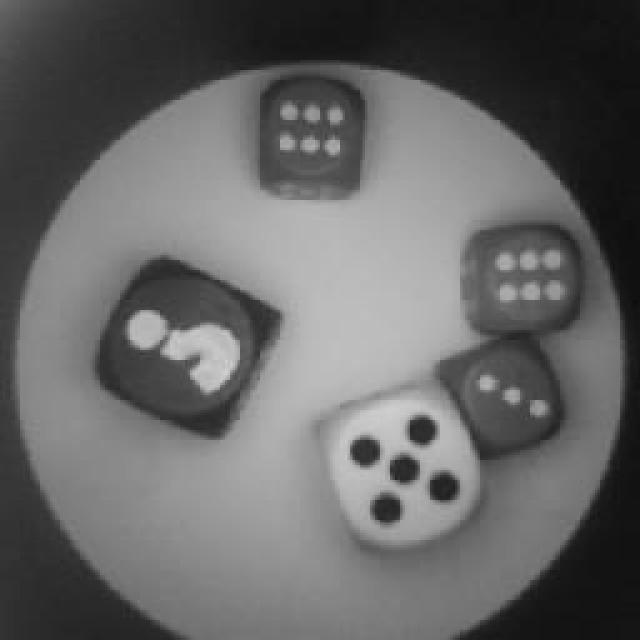dice_3: (445, 322, 573, 458)
dice_5: (323, 383, 485, 555)
dice_6: (450, 217, 598, 335), (252, 70, 360, 195)
